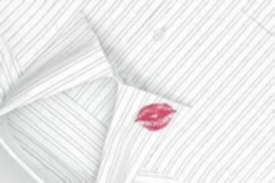lipstick: (135, 105, 172, 131)
